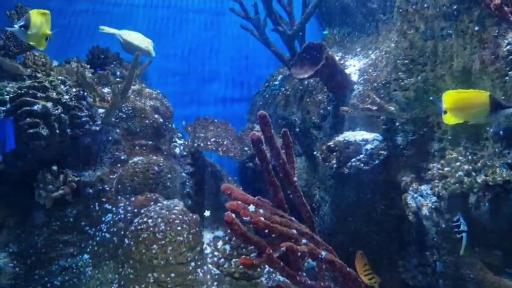Fish: (442, 89, 512, 125), (5, 9, 52, 50), (99, 26, 155, 57), (355, 251, 381, 288)
